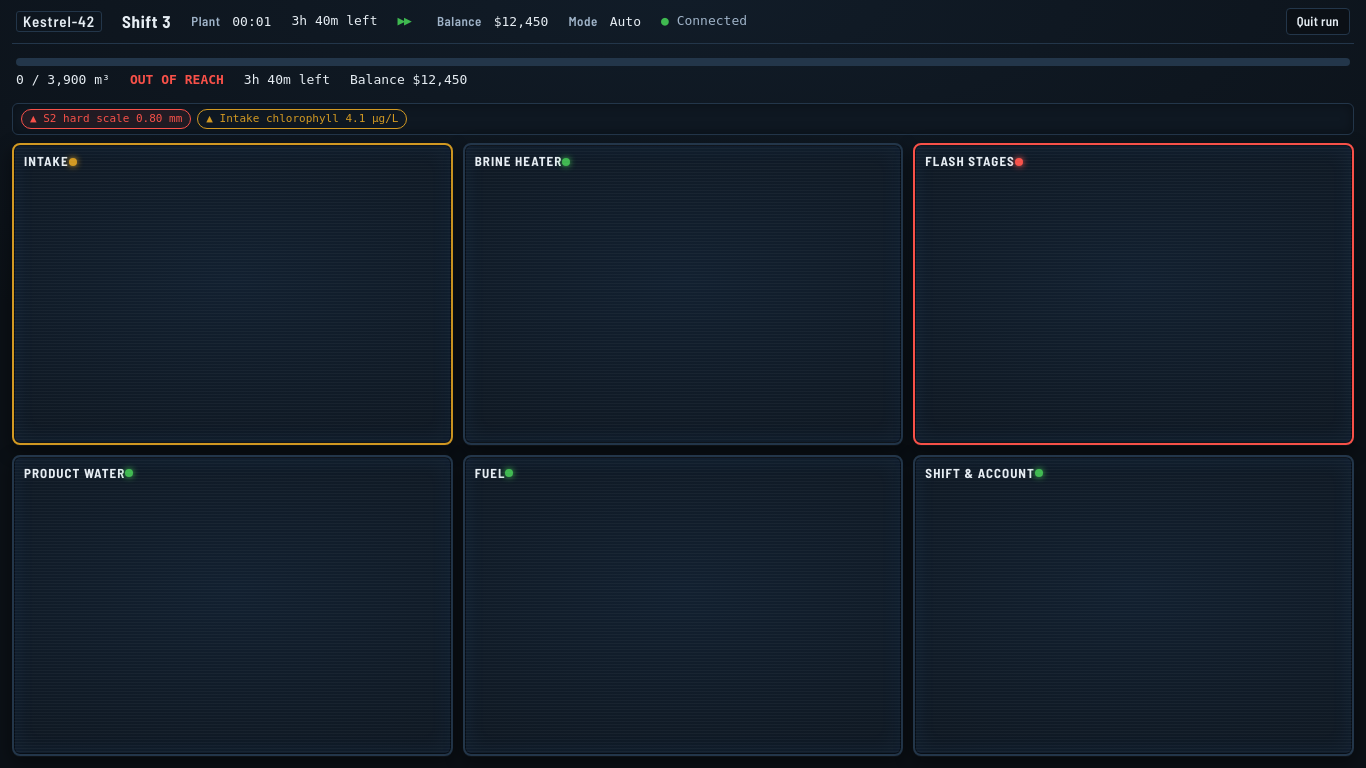
ControlRoom › a gameEnd switches to game over at once, even with a monitor expanded
Click the button "FUEL". click: (490, 473)
box: [463,454,903,756]
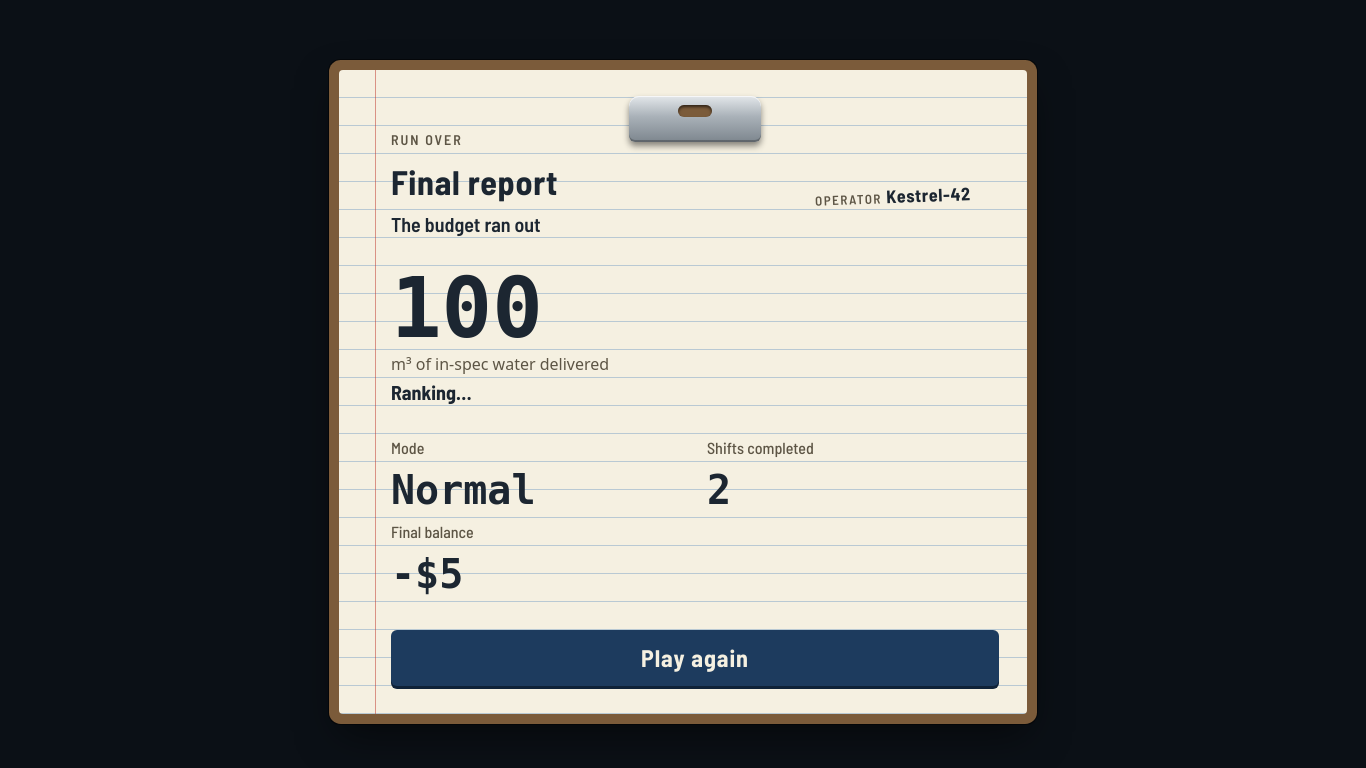
Expected: the element that starts with "Run over" is shown, [323,0,1043,762]
Expected: the element that starts with "Run over" shows "The budget ran out", [391,212,541,236]
Expected: the text named "Water delivered" reads "100", [391,259,543,357]
